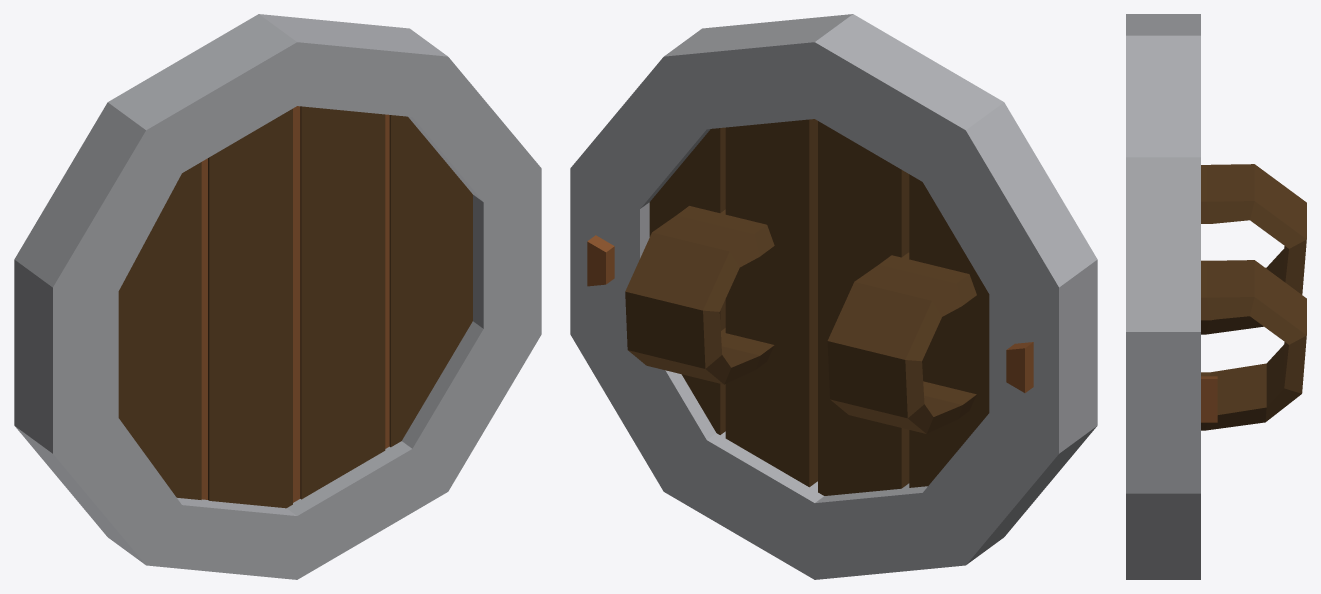
The model's file is quaternius-rpg-asset-shield.glb.
3 views of the same model, side by side, from view 1: azimuth 30°, elevation 25°; view 2: azimuth 150°, elevation 25°; view 3: azimuth 270°, elevation 25° (orthographic). The views are drawn at different scales.
Visible parts, largest first — view 1: Shield; view 2: Shield; view 3: Shield.
Part boxes in pixels (bbox=[...]): Shield: bbox=[14, 14, 541, 579]; Shield: bbox=[570, 14, 1097, 579]; Shield: bbox=[1126, 14, 1306, 579].
Size of the model in its own units: 1.9 by 2 by 0.6268.
